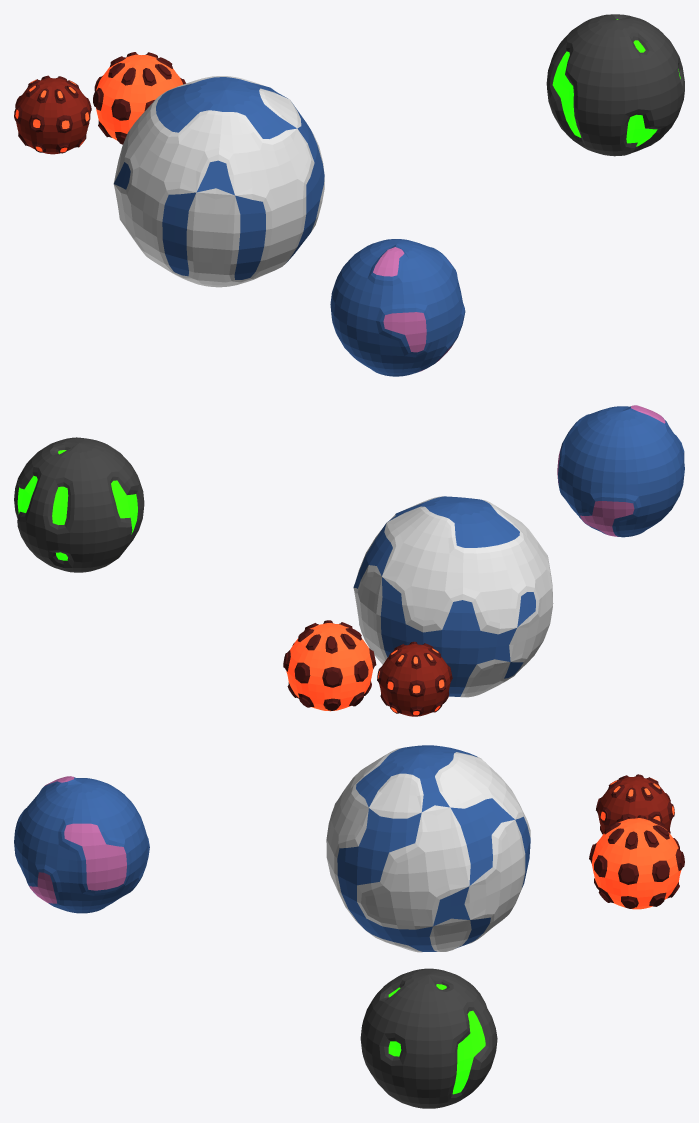
Rendered from asteroid.fbx.
The picture shows the model from 3 angles, top to bottom: view 1: azimuth 30°, elevation 25°; view 2: azimuth 150°, elevation 25°; view 3: azimuth 270°, elevation 25°; orthographic projection. The views are drawn at different scales.
Visible parts, largest first — view 1: Sphere.006, Sphere.002, Sphere, Sphere.004, Sphere.001; view 2: Sphere.006, Sphere.002, Sphere, Sphere.001, Sphere.004; view 3: Sphere.006, Sphere.002, Sphere, Sphere.001, Sphere.004.
Part boxes in pixels (x1=…): Sphere.006: x1=113, y1=76, x2=324, y2=287; Sphere.002: x1=546, y1=14, x2=684, y2=156; Sphere: x1=330, y1=239, x2=465, y2=376; Sphere.004: x1=14, y1=75, x2=91, y2=154; Sphere.001: x1=93, y1=52, x2=185, y2=144; Sphere.006: x1=353, y1=496, x2=553, y2=697; Sphere.002: x1=14, y1=437, x2=144, y2=572; Sphere: x1=557, y1=405, x2=684, y2=537; Sphere.001: x1=283, y1=620, x2=376, y2=711; Sphere.004: x1=377, y1=641, x2=452, y2=716; Sphere.006: x1=326, y1=745, x2=530, y2=952; Sphere.002: x1=360, y1=968, x2=497, y2=1108; Sphere: x1=14, y1=776, x2=149, y2=913; Sphere.001: x1=589, y1=815, x2=684, y2=909; Sphere.004: x1=596, y1=774, x2=674, y2=834.
Bounding box in the file's own units: 1387 × 458 × 1480.
